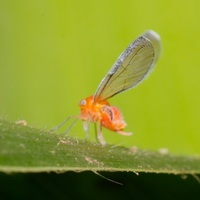insect: (52, 30, 160, 144)
